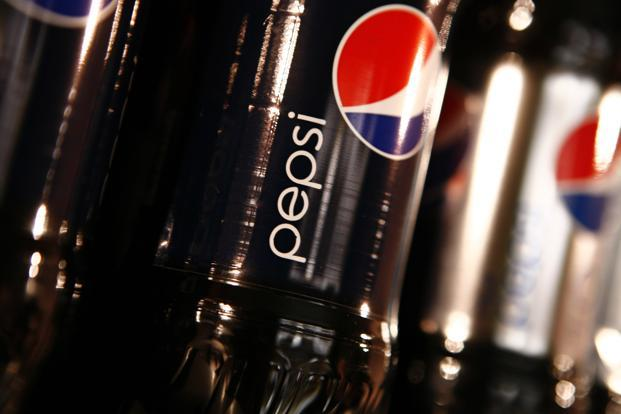pepsi: (332, 0, 442, 159), (332, 2, 442, 159), (558, 114, 617, 231)
